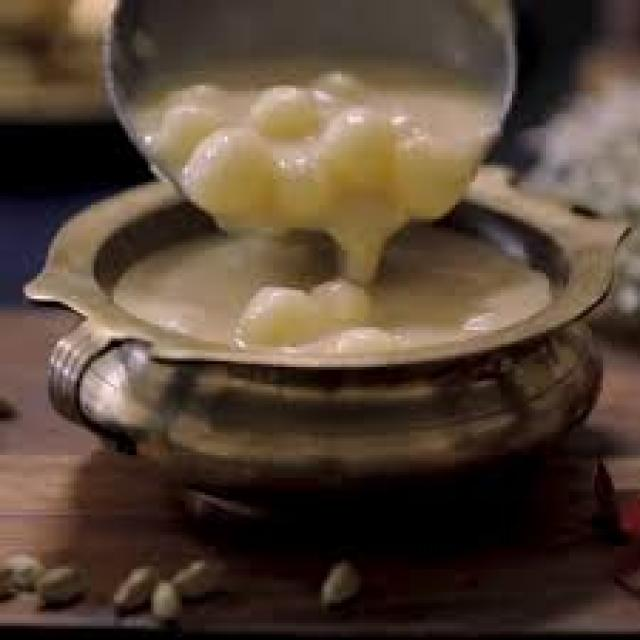paal kolukattai: (96, 37, 546, 400)
